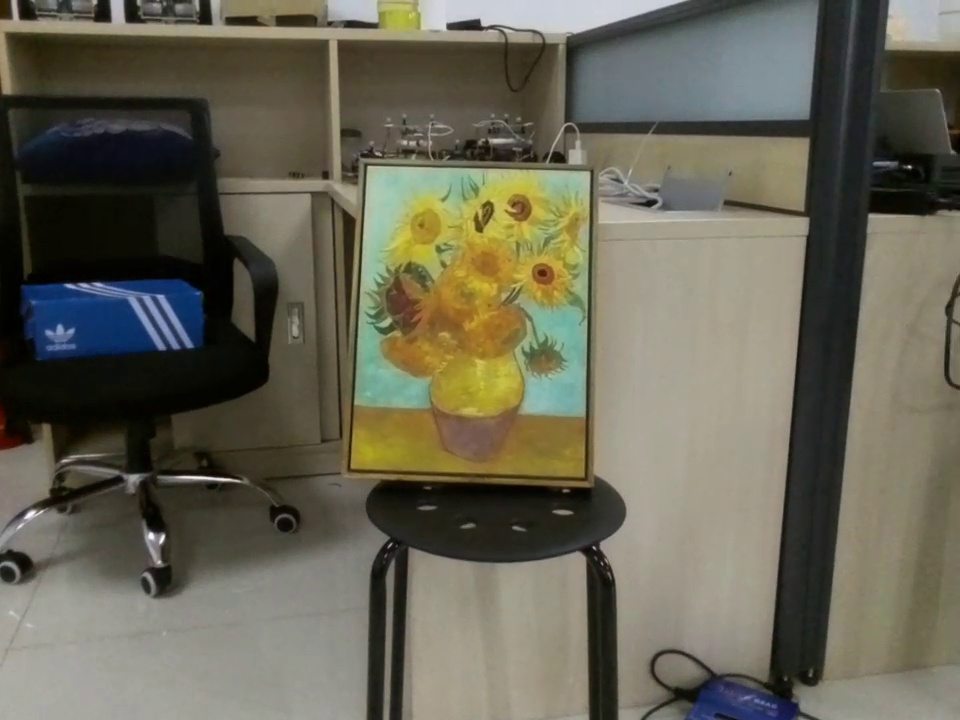painting: (340, 154, 606, 490)
